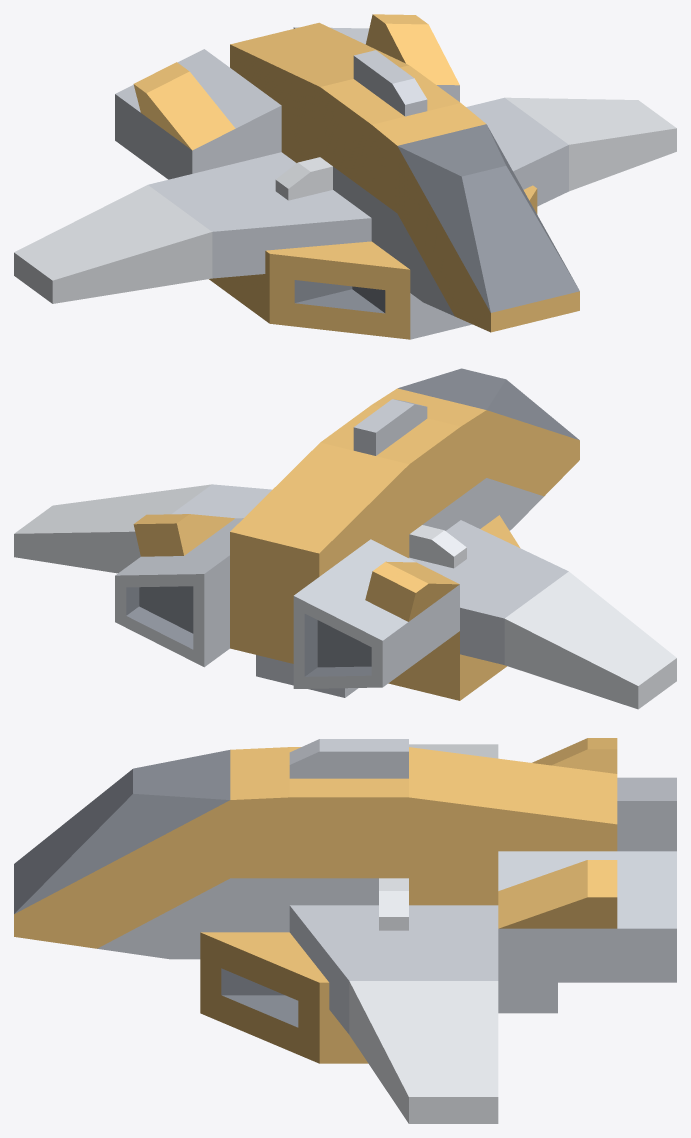
Rendered from podracer.glb.
3 renders of one model, top to bottom at view 1: azimuth 30°, elevation 25°; view 2: azimuth 150°, elevation 25°; view 3: azimuth 270°, elevation 25°, orthographic. The views are drawn at different scales.
Parts seen in each view (by area): view 1: craft_speederD; view 2: craft_speederD; view 3: craft_speederD.
Part boxes in pixels (x1,y1,x2,y2): craft_speederD: (14,14,676,339); craft_speederD: (14,368,676,709); craft_speederD: (14,738,676,1123).
Bounding box in the file's own units: 2.8 × 0.9 × 2.23.
